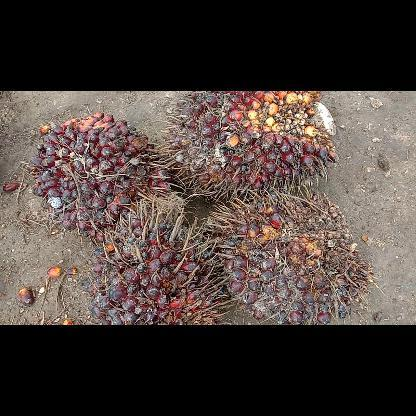TBS masak: (206, 186, 378, 324), (158, 90, 340, 202), (21, 107, 168, 241), (87, 196, 227, 324)
